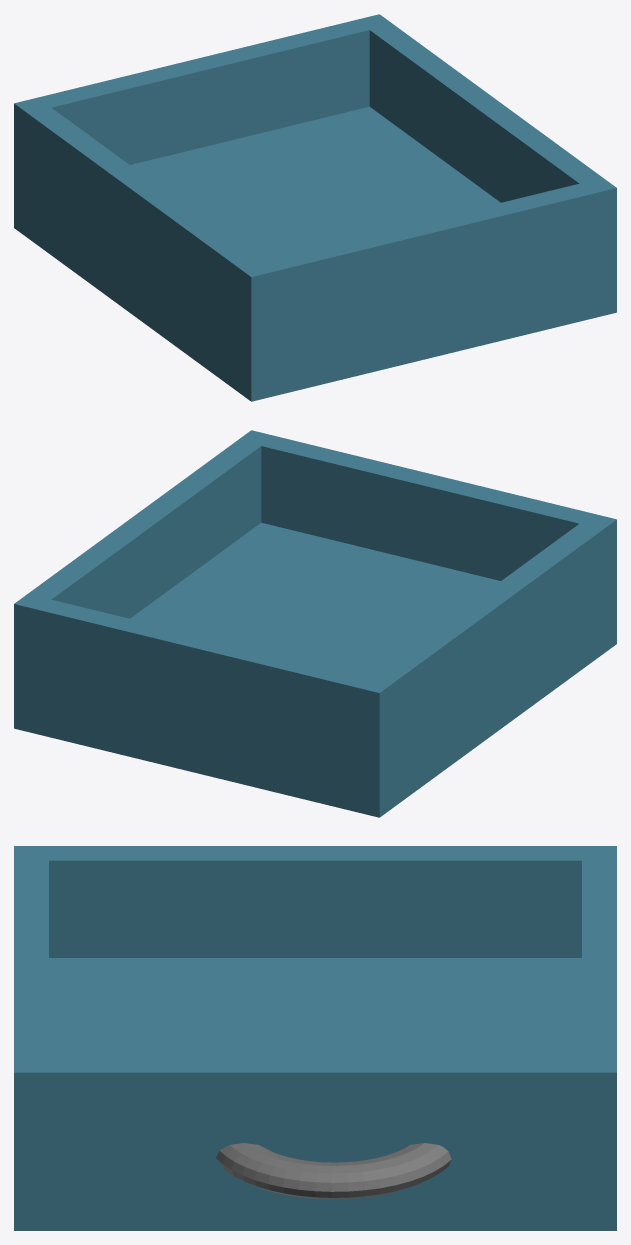
Rendered from TopDrawerFinal.fbx.
3 views of the same model, one above another, from view 1: azimuth 30°, elevation 25°; view 2: azimuth 150°, elevation 25°; view 3: azimuth 270°, elevation 25° (orthographic). The views are drawn at different scales.
Parts seen in each view (by area): view 1: DrawerTop; view 2: DrawerTop; view 3: DrawerTop.
Part boxes in pixels (x1,y1,x2,y2): DrawerTop: [14, 14, 616, 401]; DrawerTop: [14, 430, 616, 817]; DrawerTop: [14, 846, 616, 1230].
Size of the model in its own units: 83.38 by 23.64 by 81.59.
